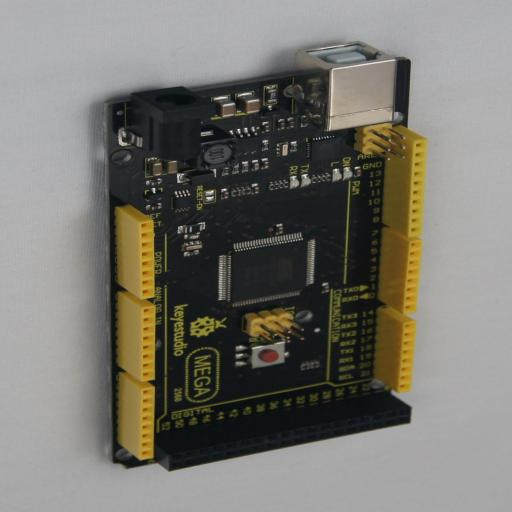Arduino Mega 2560 -Black and Yellow-: (97, 43, 419, 471)
